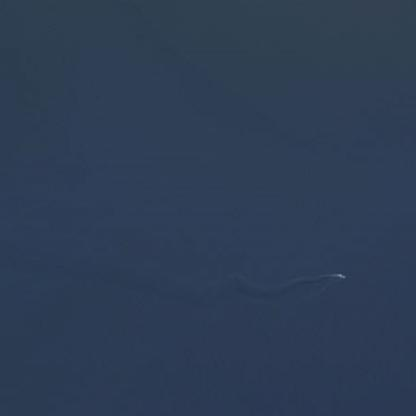ship: (328, 265, 350, 289)
